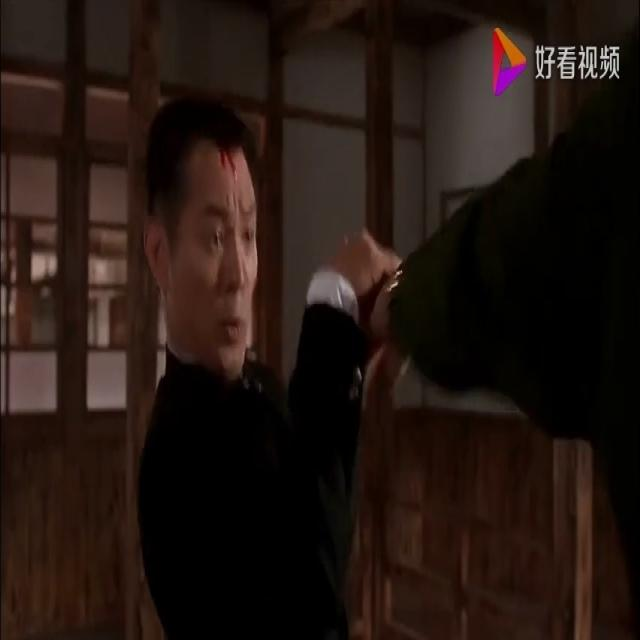fight: (128, 0, 638, 639)
